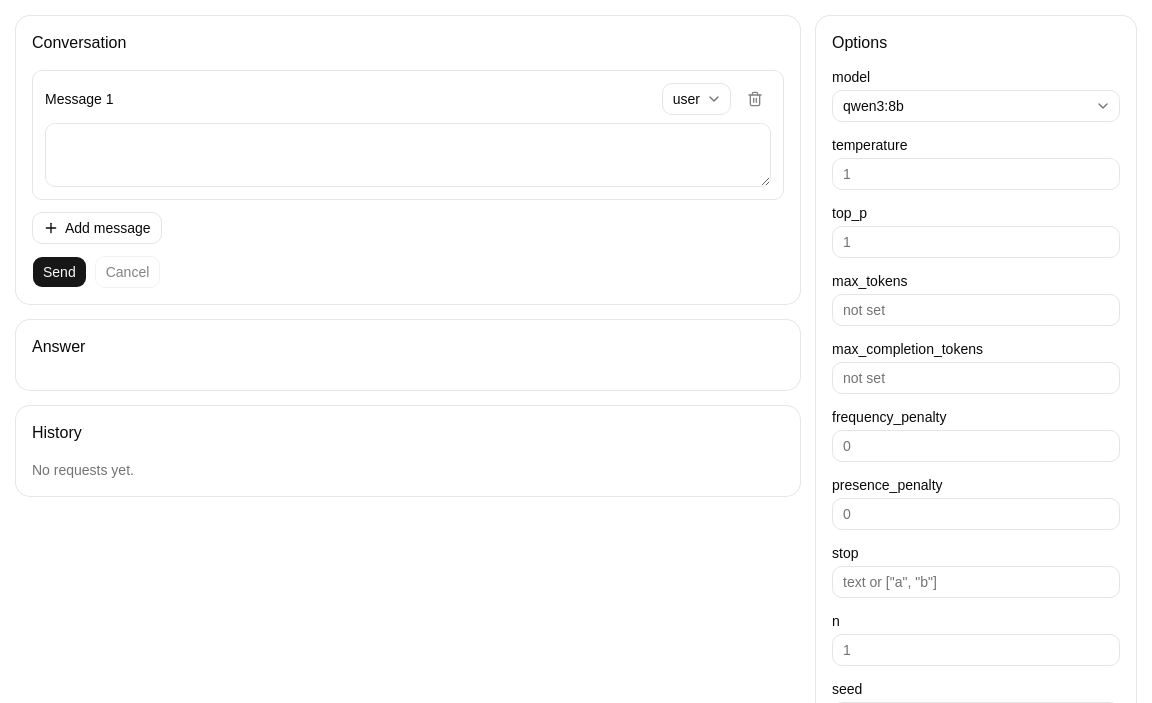
Scenario: the model selector lists served models and the default is sent
The image size is (1152, 703).
Expected: the dropdown named "model" shows "qwen3:8b", [832,90,1120,122]
Type "Hello" into the text box labelled "Message 1" at (408, 155), box [45,123,771,187]
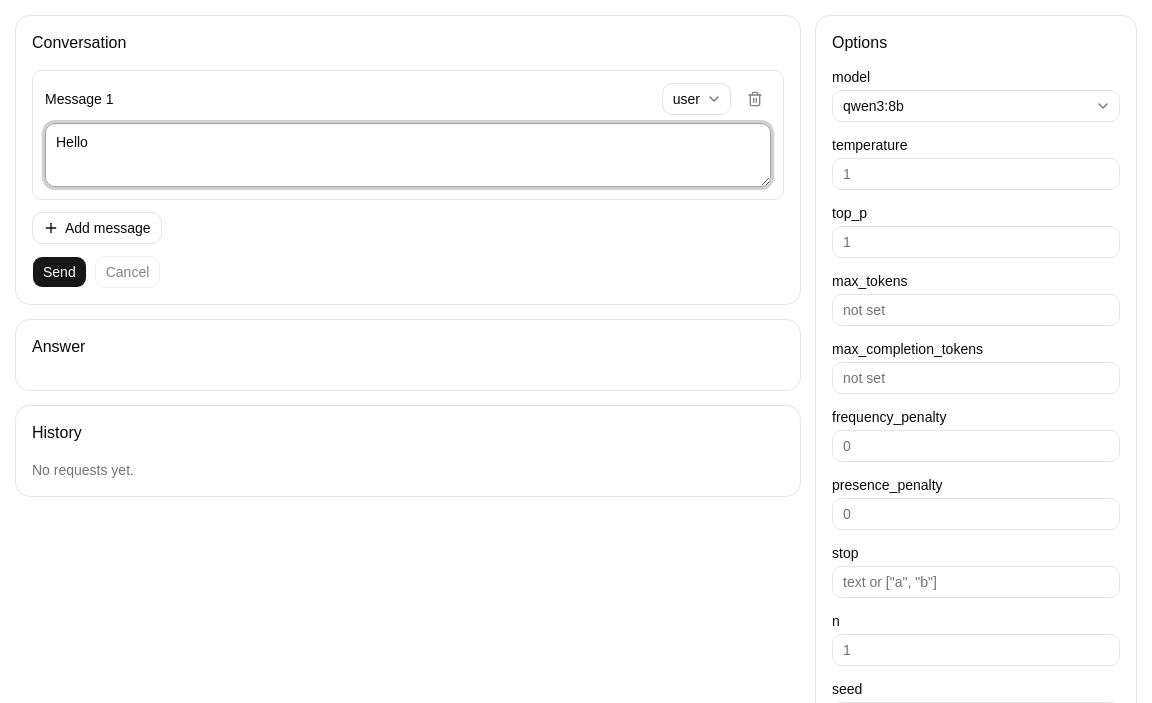
Click the dropdown named "model" at (873, 106), box [832,90,1120,122]
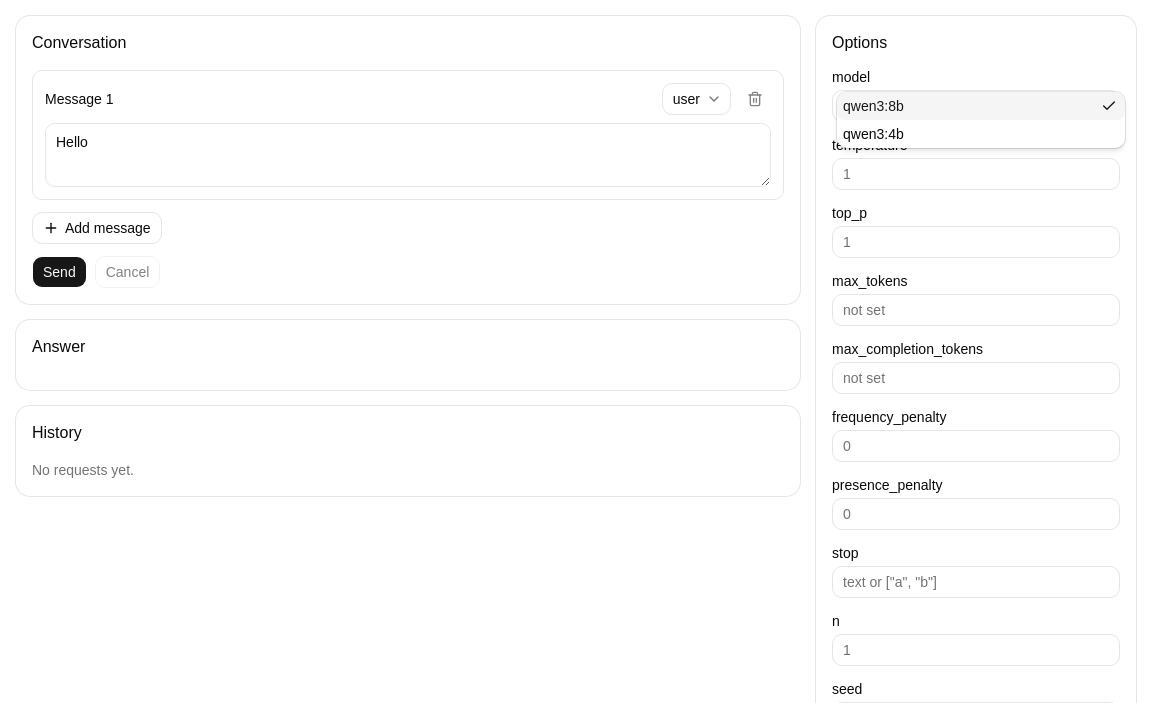
Now the option "qwen3:4b" is shown, box [843,126,904,142]
Click the option "qwen3:8b" at (873, 106), box [837,92,1125,120]
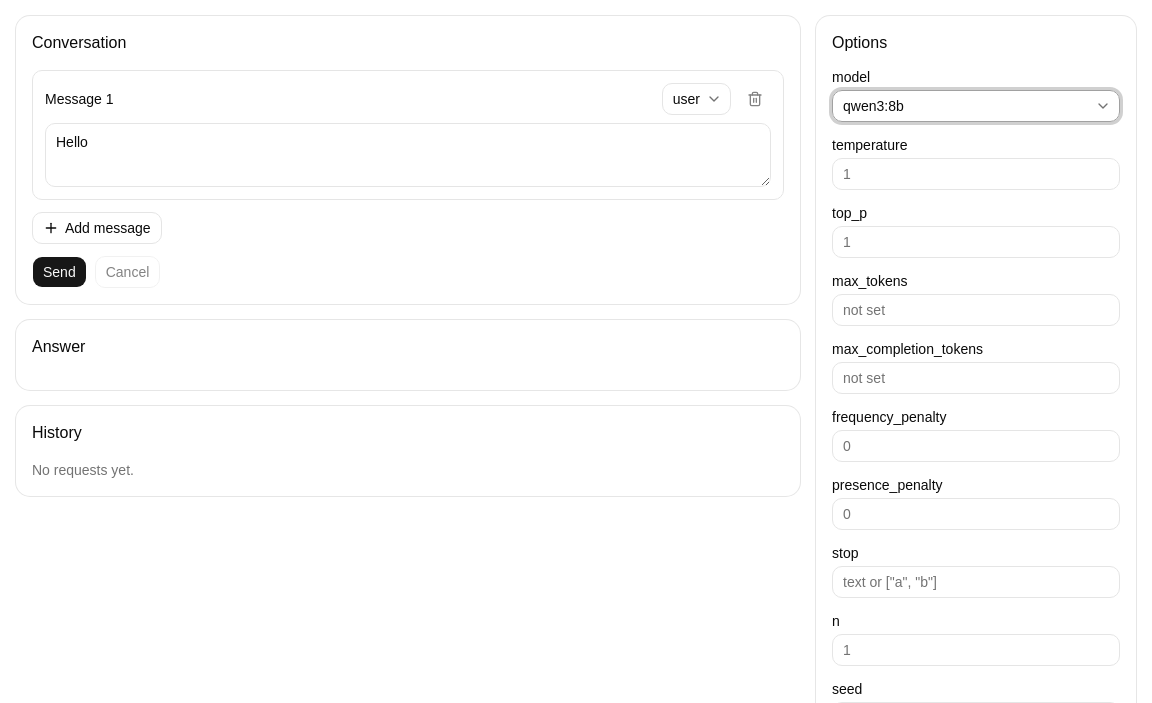
Click the button "Send" at (59, 272), box [32,256,87,288]
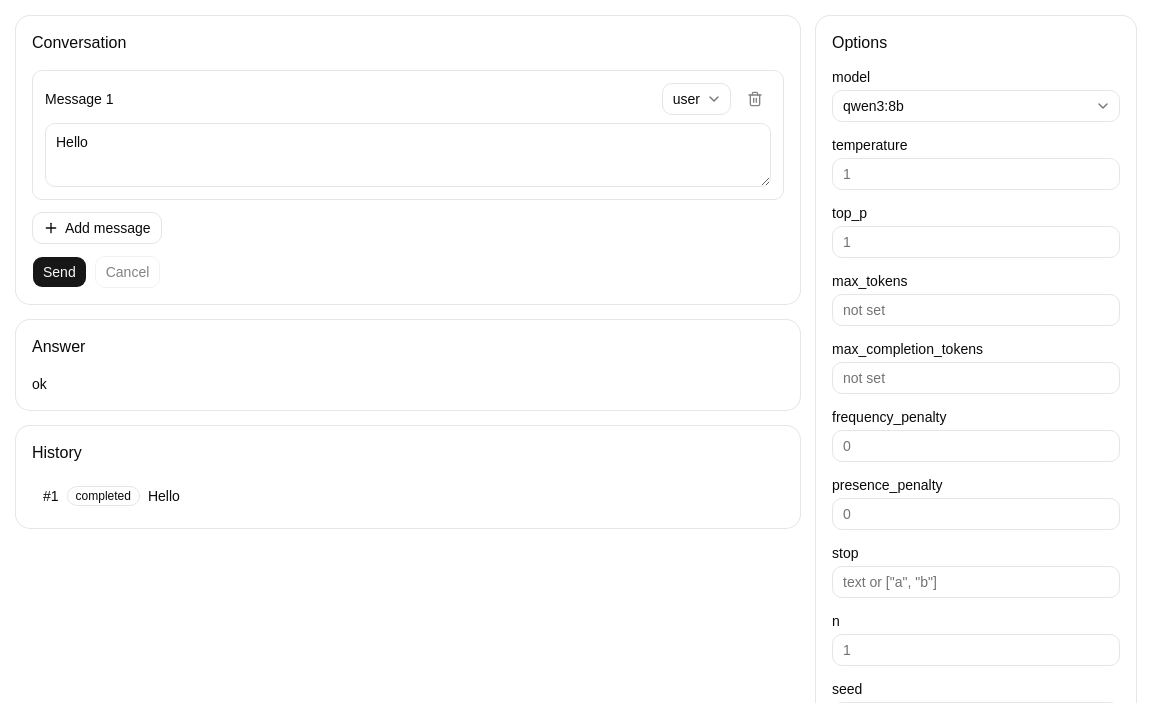
Now the text "ok" is shown, box [32,376,47,392]
